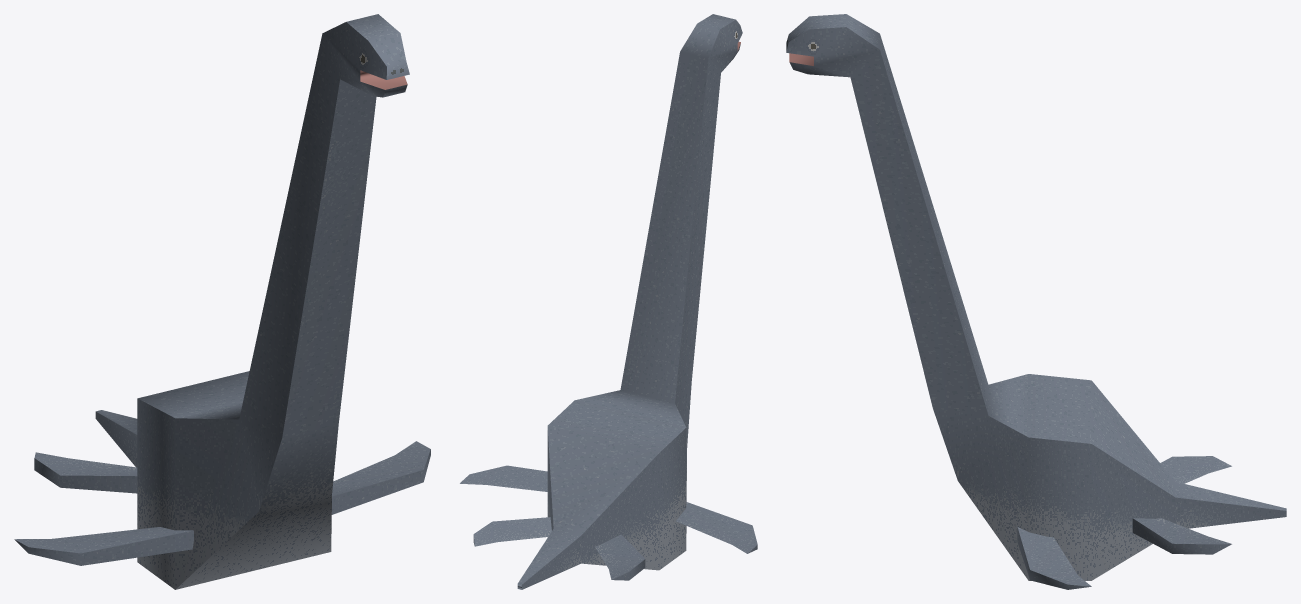
File: 0444_Mystery_Creature.glb
3 views of the same model, side by side, from view 1: azimuth 30°, elevation 25°; view 2: azimuth 150°, elevation 25°; view 3: azimuth 270°, elevation 25° (orthographic). The views are drawn at different scales.
Parts seen in each view (by area): view 1: part_0; view 2: part_0; view 3: part_0.
Part boxes in pixels (left/top/right/bottom): part_0: left=14, top=14, right=430, bottom=589; part_0: left=460, top=14, right=757, bottom=589; part_0: left=786, top=14, right=1286, bottom=589.
Bounding box in the file's own units: 9.1 × 13.69 × 11.75.
1 material, 1 textured.
